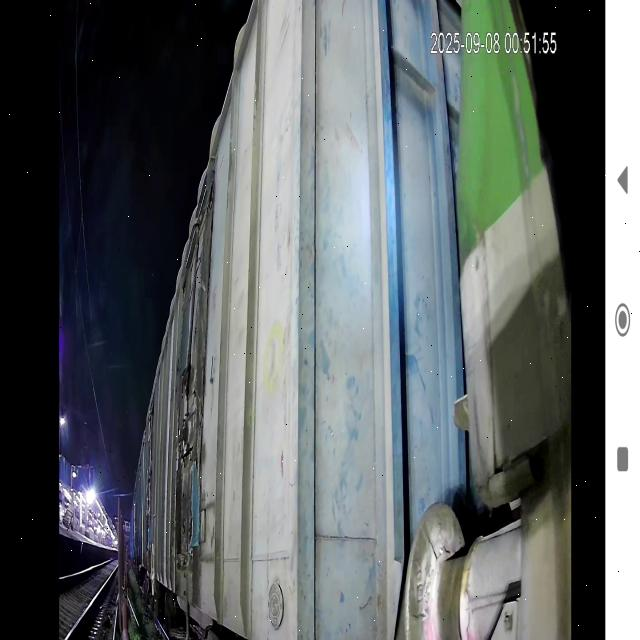coach: (146, 0, 313, 640)
